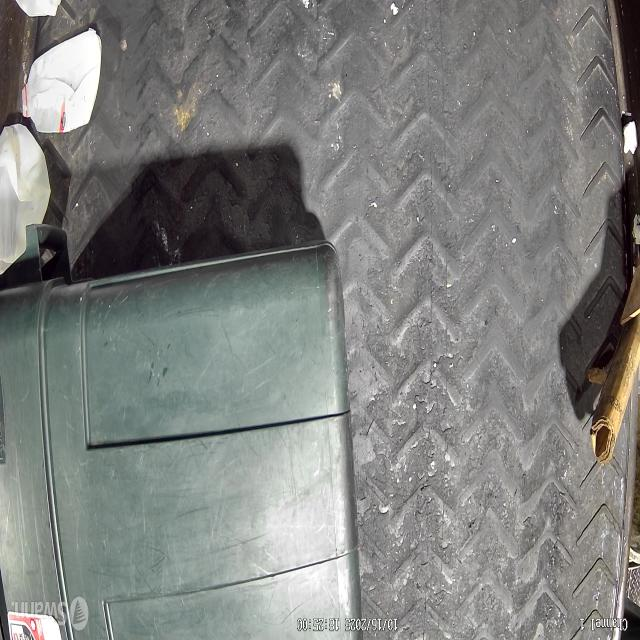milk_jug: (21, 27, 102, 132), (0, 122, 51, 277)
